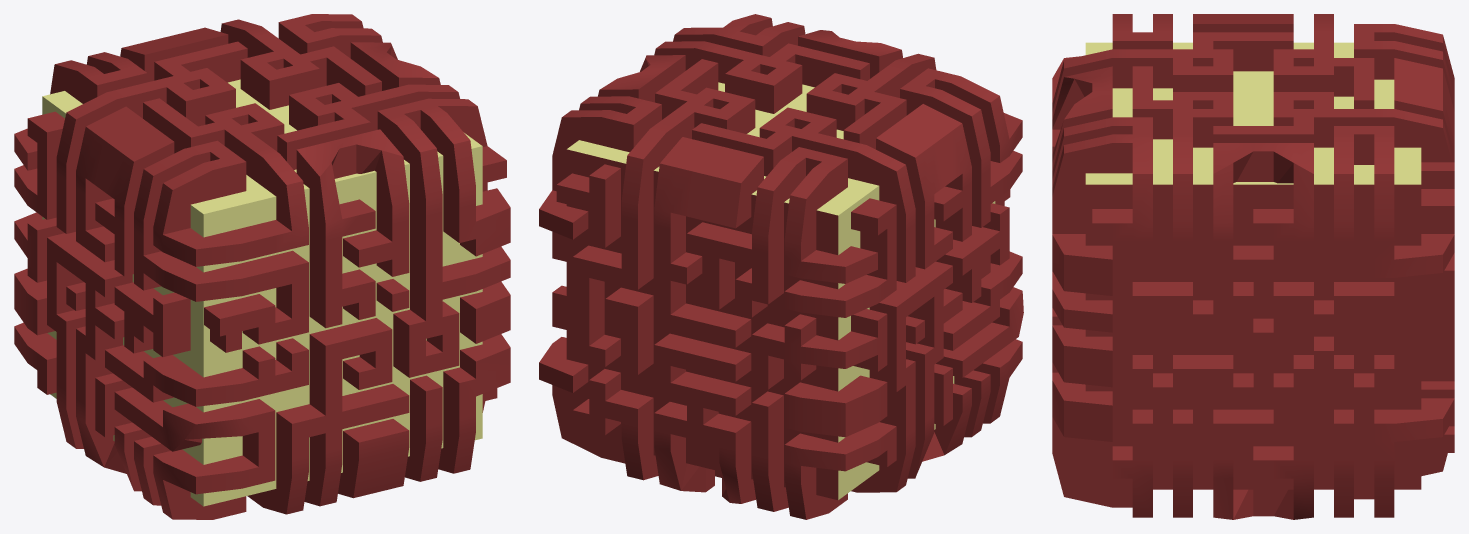
The picture shows the model from 3 angles, left to right: view 1: azimuth 30°, elevation 25°; view 2: azimuth 150°, elevation 25°; view 3: azimuth 270°, elevation 25°; orthographic projection. The views are drawn at different scales.
Parts seen in each view (by area): view 1: cube02Collision; view 2: cube02Collision; view 3: cube02Collision.
Part boxes in pixels (x1,y1,x2,y2): cube02Collision: (14, 14, 510, 519); cube02Collision: (539, 14, 1023, 519); cube02Collision: (1052, 14, 1454, 519).
Bounding box in the file's own units: 60 × 60 × 60.
